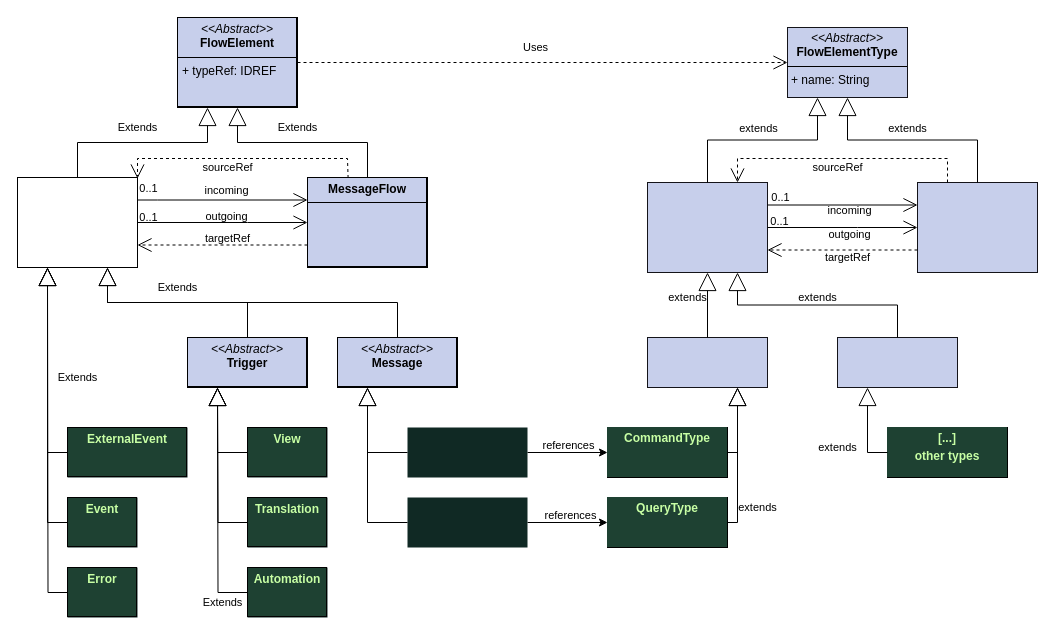
Some shapes in this 1055 by 635 pixel diagram are drawn without their labels. Here are the shapes that lost their labels. From the top down, the box of each, then its label:
(16, 176, 138, 268): <<Abstract>> FlowNode
(646, 182, 768, 272): <<Abstract>> FlowNodeType
(916, 182, 1038, 272): MessageFlowType + sourceRef: IDREF + targetRef: IDREF
(646, 336, 768, 388): <<Abstract>> MessageType
(836, 336, 958, 388): <<Abstract>> TriggerType
(407, 427, 527, 477): Command
(407, 497, 527, 547): Query
